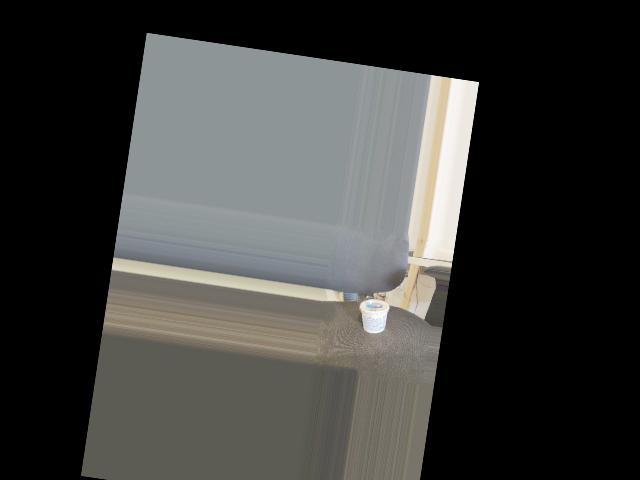cotage: (356, 294, 387, 335)
